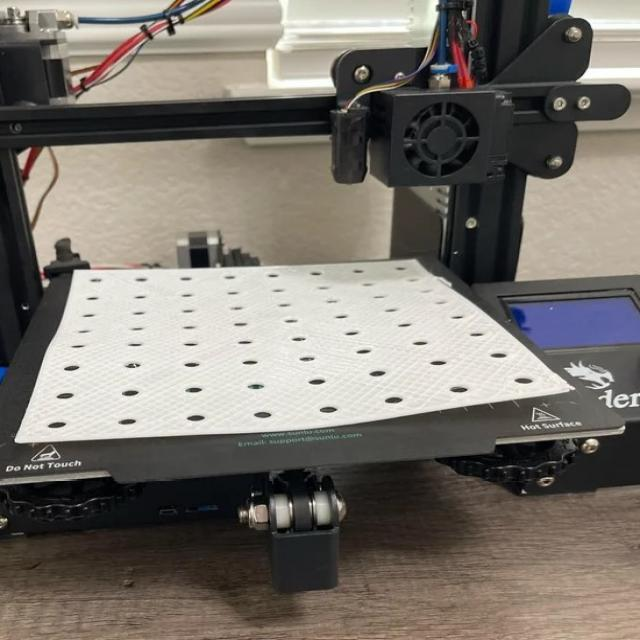Warping: (368, 339, 605, 433)
